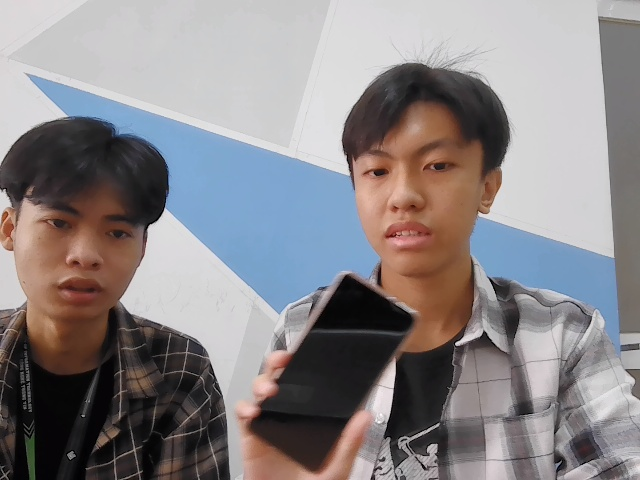human: (1, 119, 177, 324), (344, 64, 509, 274)
phone: (257, 270, 421, 475)
